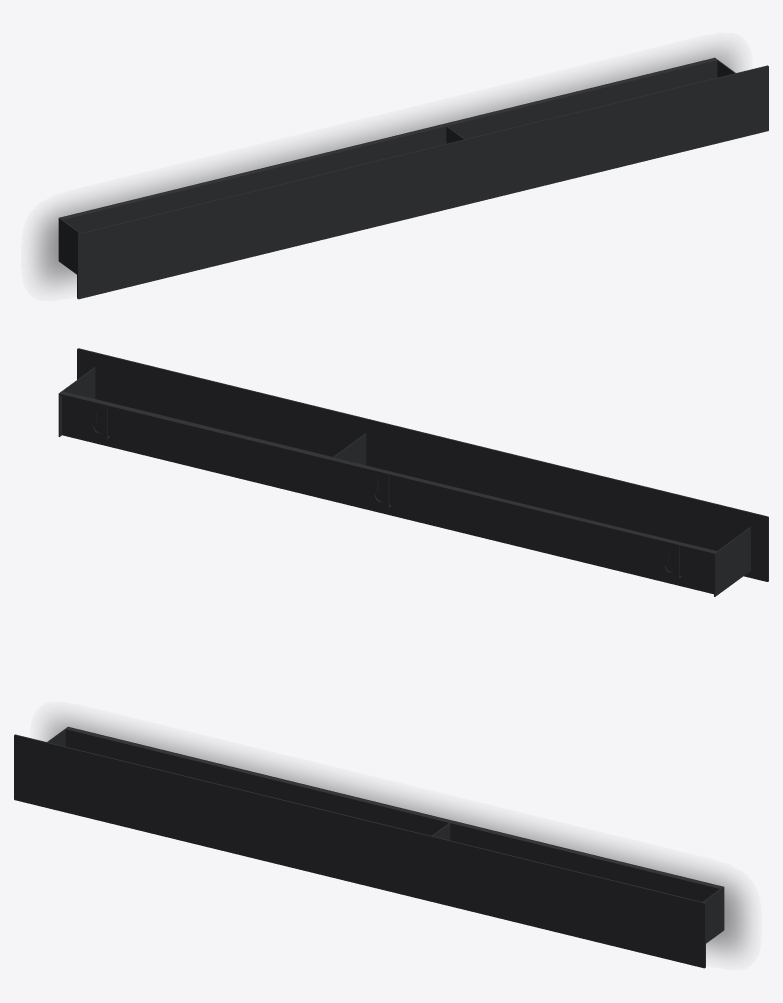
The model's file is skyline-double.3332071c22.ar.glb.
The picture shows the model from 3 angles, top to bottom: view 1: azimuth 30°, elevation 25°; view 2: azimuth 150°, elevation 25°; view 3: azimuth 330°, elevation 25°; orthographic projection.
Visible parts, largest first — view 1: NAUO1, object 2; view 2: NAUO1; view 3: NAUO1, object 2.
Part boxes in pixels (<box>): NAUO1: <box>58,57,768,299</box>; object 2: <box>34,48,738,285</box>; NAUO1: <box>58,348,768,596</box>; NAUO1: <box>14,726,724,968</box>; object 2: <box>44,717,748,954</box>.
Size of the model in its own units: 1.08 by 0.17 by 0.092.
Materials: 2 (1 with a texture image).
